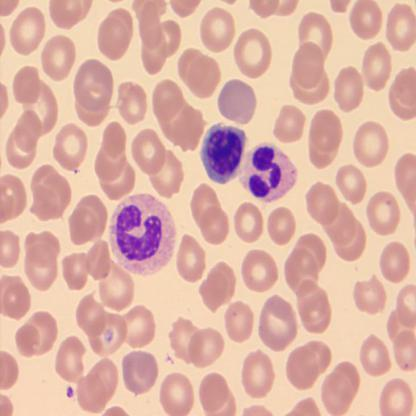NRC: (200, 121, 247, 185)
